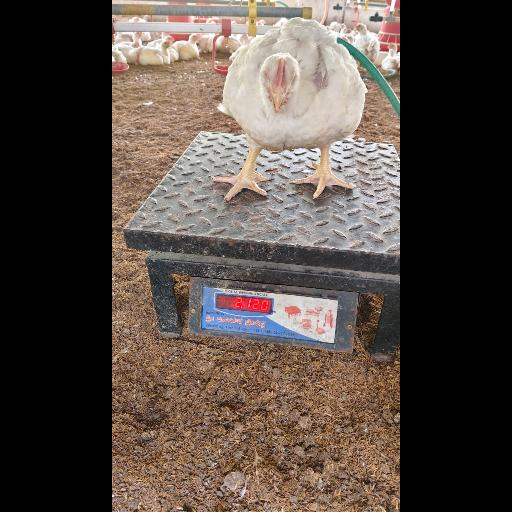chick: (214, 21, 366, 201)
